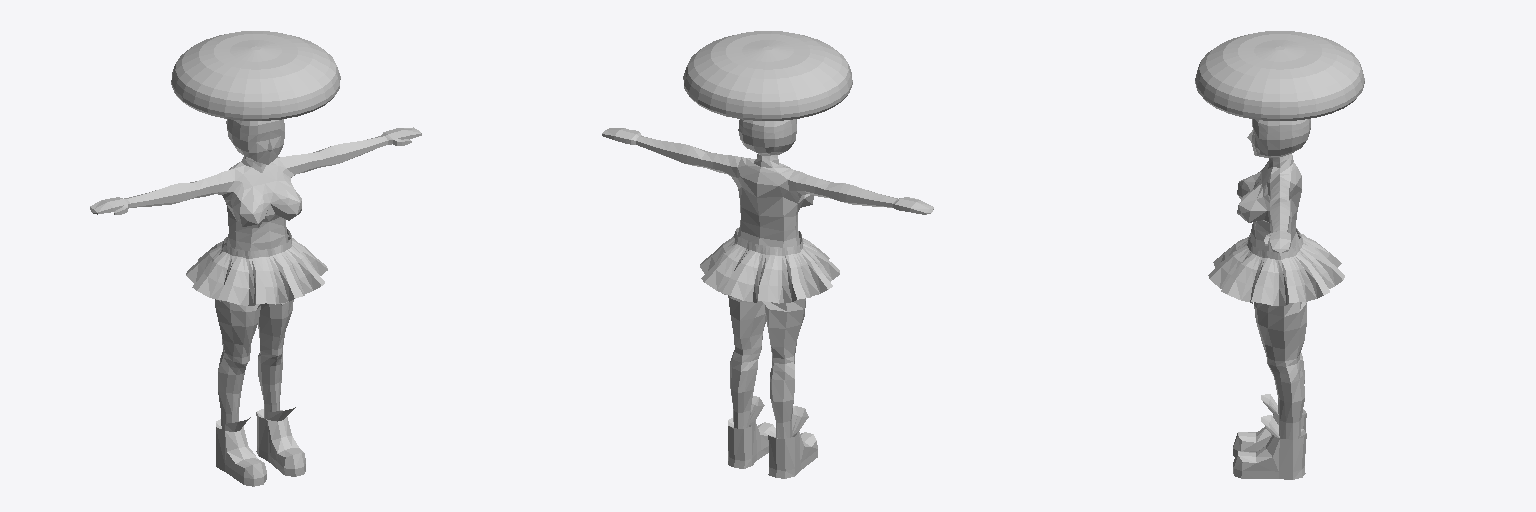
The model's file is slime_girl_uv_test_skirt_hat.obj.
The picture shows the model from 3 angles: view 1: azimuth 30°, elevation 25°; view 2: azimuth 150°, elevation 25°; view 3: azimuth 270°, elevation 25°; orthographic projection.
Visible parts, largest first — view 1: Body, hat, skirt_sharp, shoes, Head; view 2: Body, hat, skirt_sharp, shoes, Head; view 3: hat, Body, skirt_sharp, shoes, Head.
Part boxes in pixels (x1,y1,x2,y2): Body: (90,127,421,430); hat: (171,31,340,120); skirt_sharp: (186,229,327,305); shoes: (216,407,305,486); Head: (226,119,284,164); Body: (602,128,933,438); hat: (683,31,852,120); skirt_sharp: (700,227,839,303); shoes: (728,396,817,478); Head: (738,119,796,155); hat: (1195,31,1364,120); Body: (1237,154,1306,439); skirt_sharp: (1208,228,1344,305); shoes: (1233,394,1306,479); Head: (1247,119,1310,157).
Size of the model in its own units: 2.35 by 2.84 by 1.05.